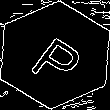P_NE: (23, 24, 87, 86)
